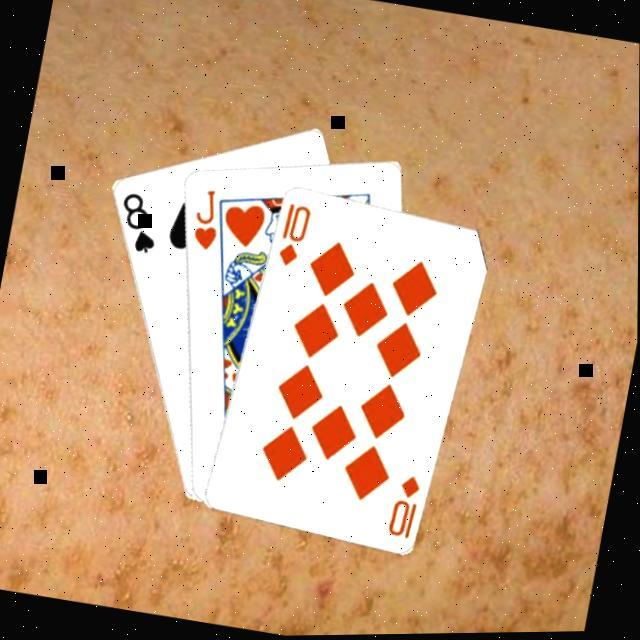10D: (384, 471, 426, 545), (274, 200, 314, 272)
8S: (110, 188, 166, 260)
JH: (186, 184, 227, 256)
